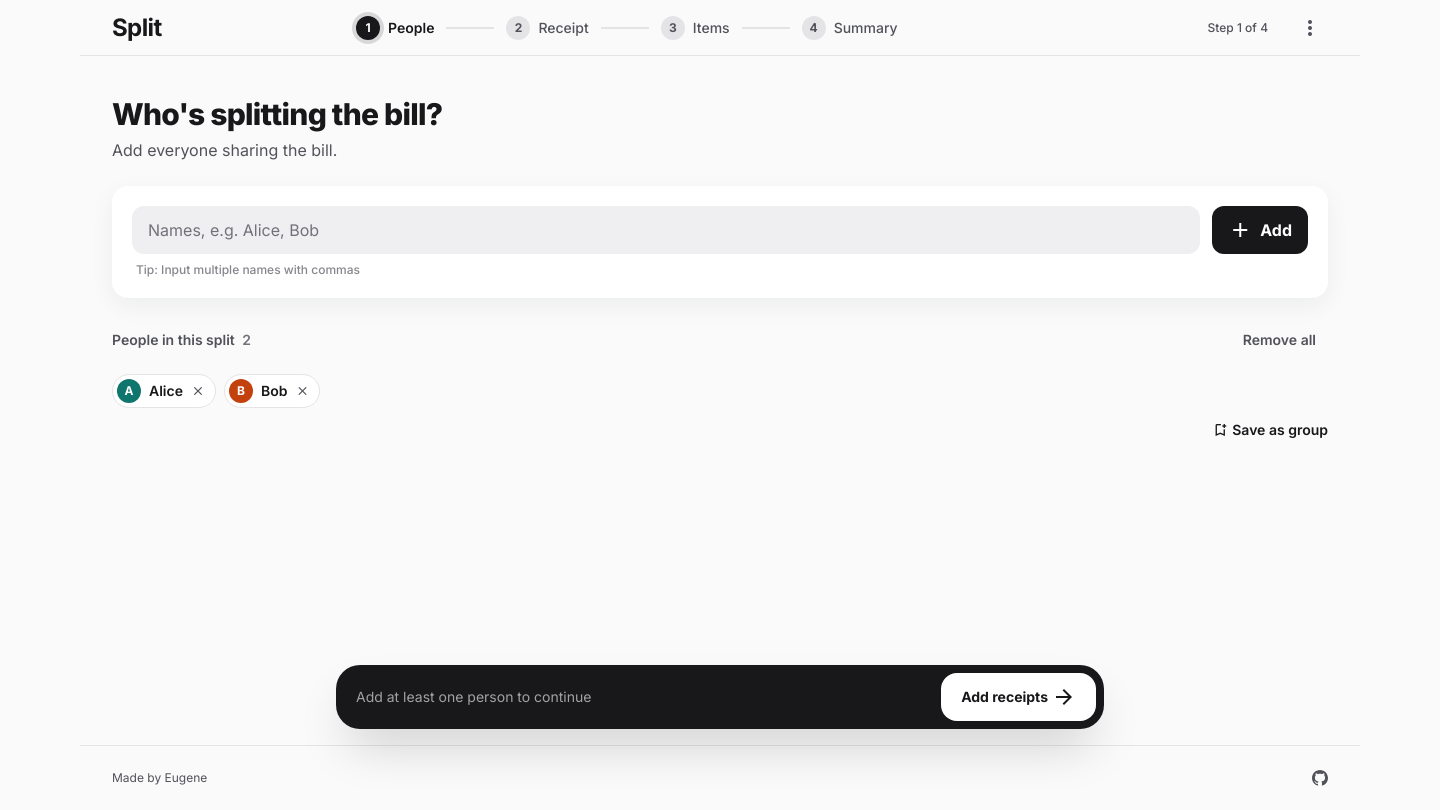
Scenario: ReceiptSplitterPage integration › Navigation › progresses through all 4 steps with one page heading on each
Expected: the element with test id "wizard-step-context" shows "Step 1", [1208,20,1268,34]
Click the button with test id "wizard-continue-btn" at (1019, 697), box [941,673,1096,721]
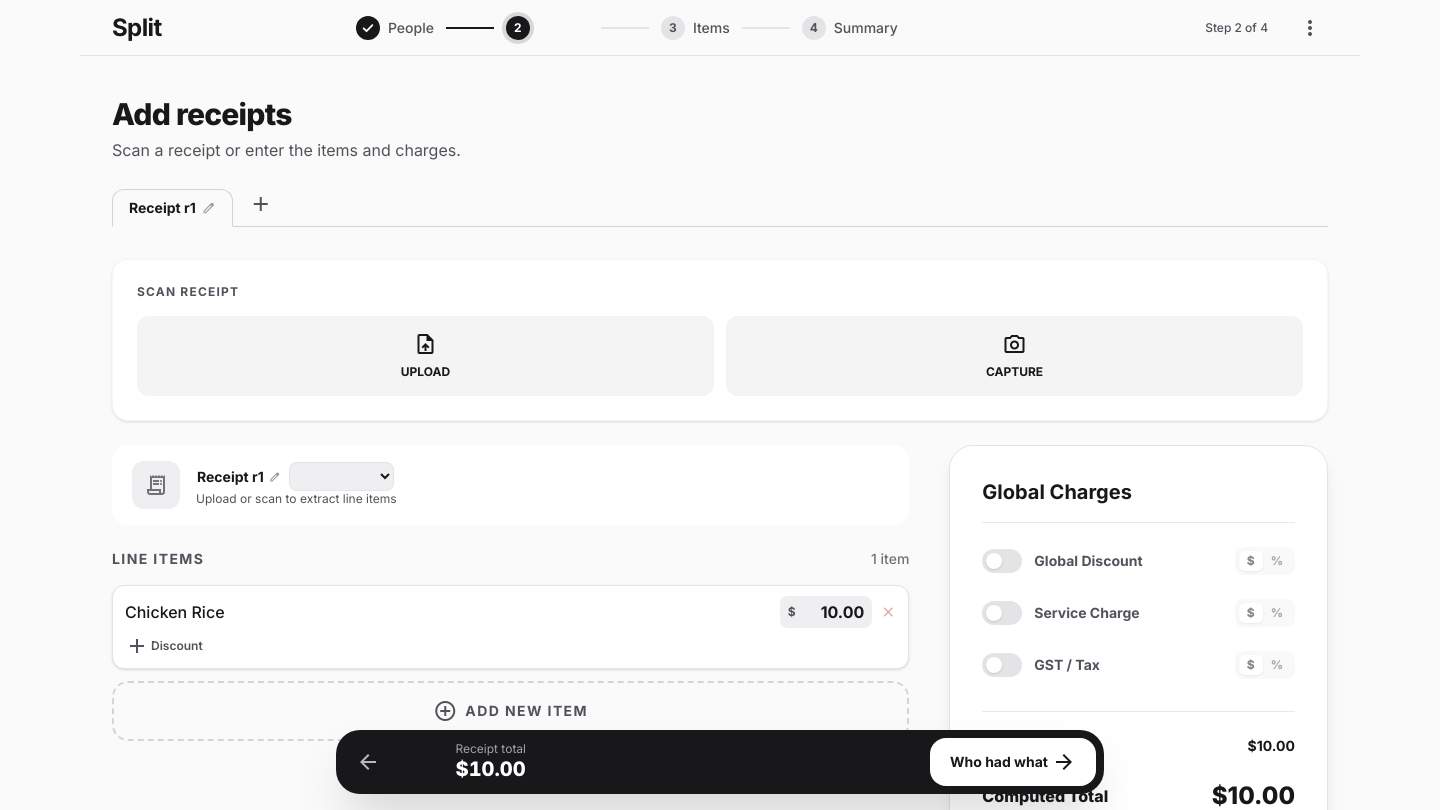
Expected: the element with test id "wizard-step-context" shows "Step 2", [1205,20,1268,34]
Click the button with test id "wizard-continue-btn" at (1013, 762), box [930,738,1096,786]
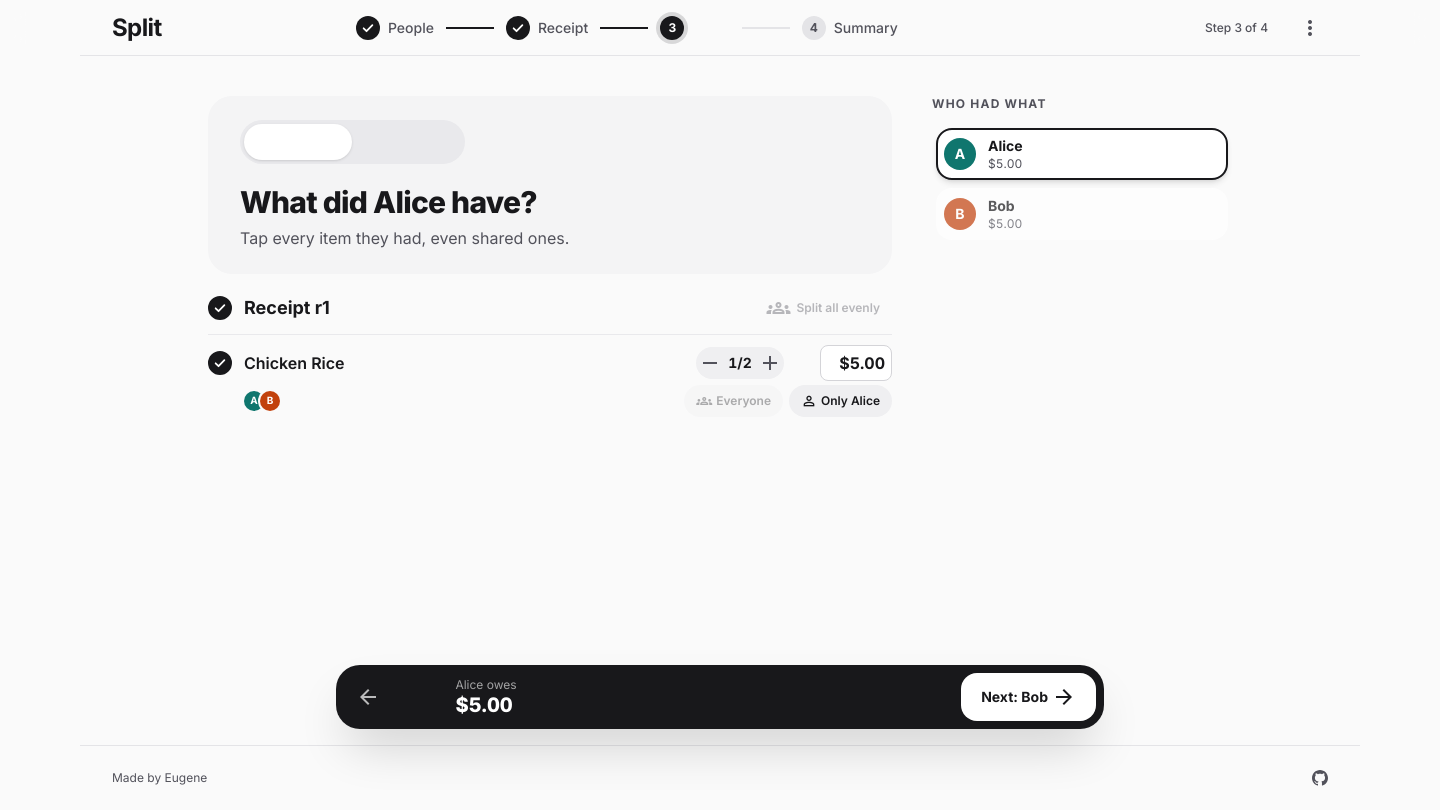
Click the button with test id "wizard-continue-btn" at (1029, 697), box [961,673,1096,721]
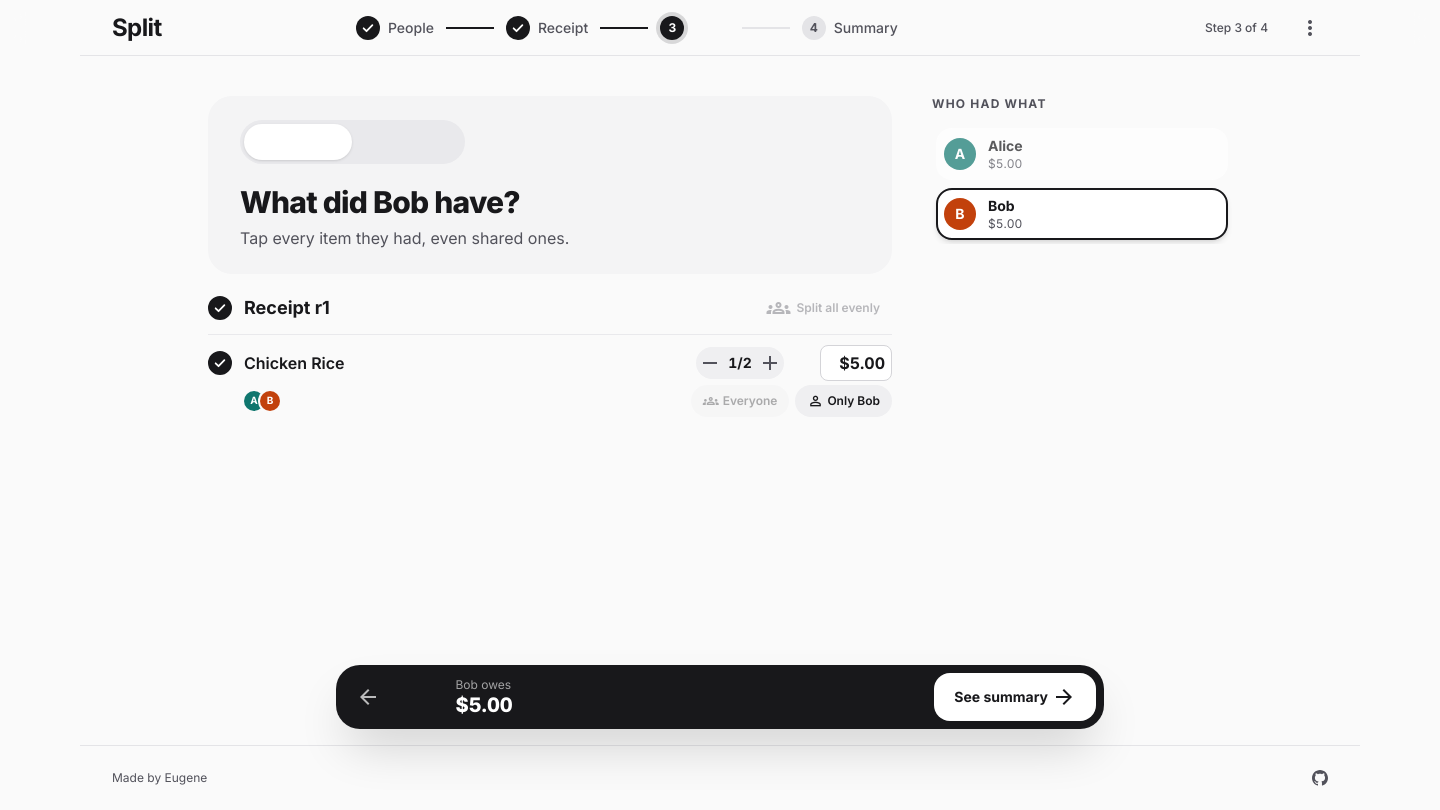
Click the button with test id "wizard-continue-btn" at (1015, 697), box [934,673,1096,721]
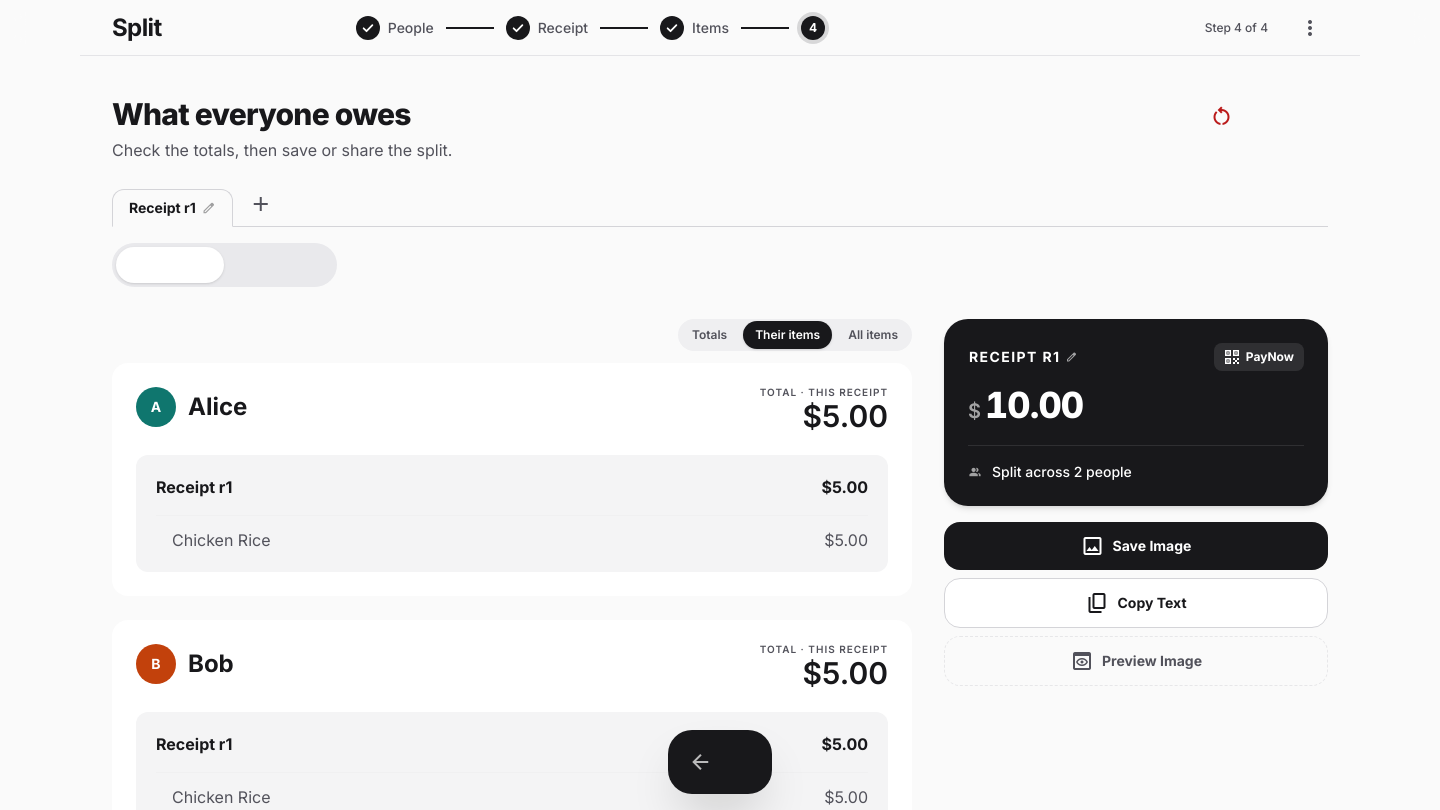
Expected: the button with test id "wizard-continue-btn" is gone
